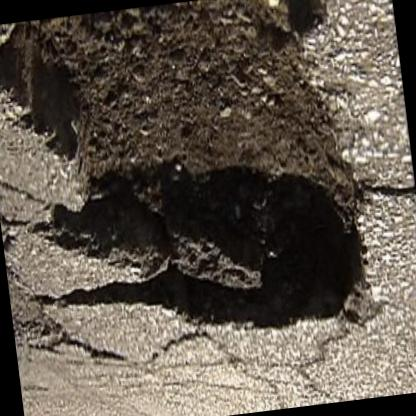pothole: (0, 0, 382, 372)
